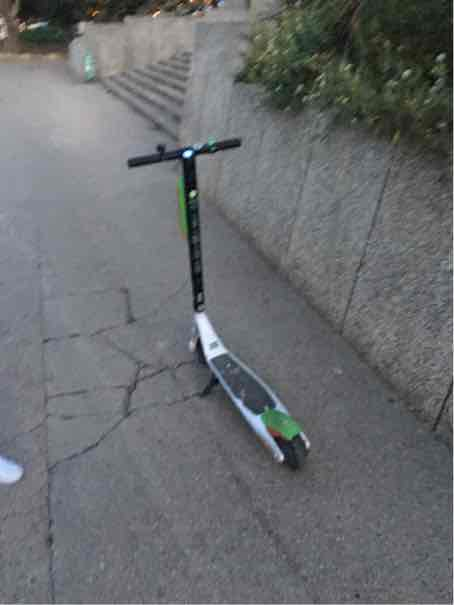scooter: (120, 123, 318, 478)
